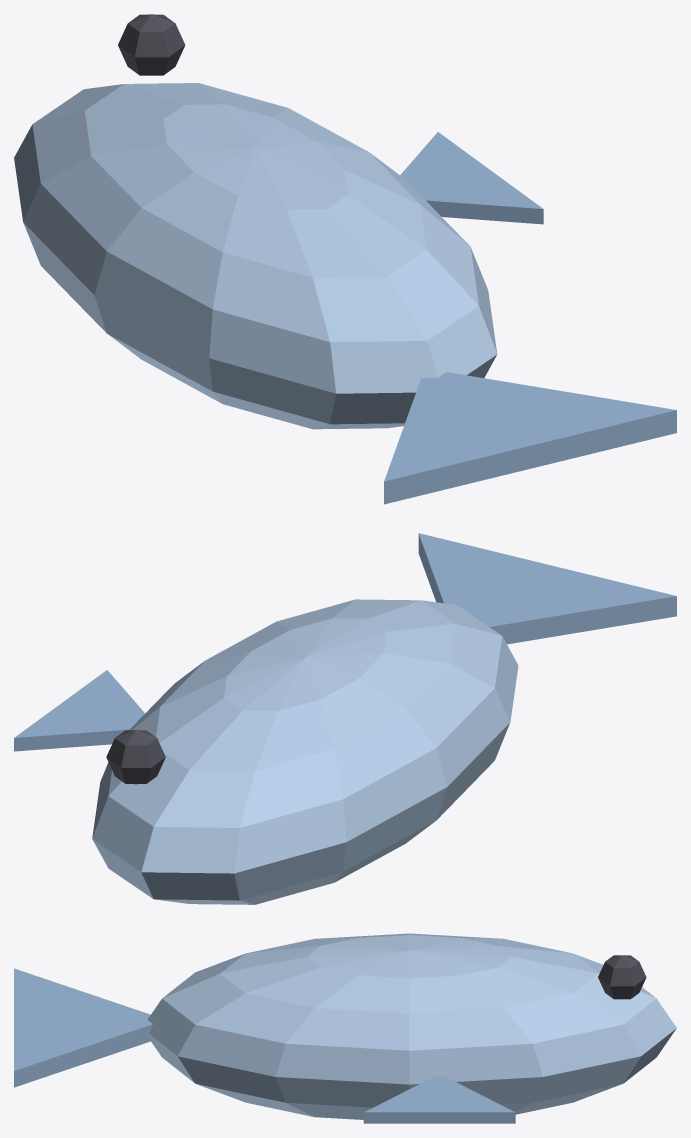
The model's file is fish_held.gltf.
The picture shows the model from 3 angles, top to bottom: view 1: azimuth 30°, elevation 25°; view 2: azimuth 150°, elevation 25°; view 3: azimuth 270°, elevation 25°; orthographic projection. The views are drawn at different scales.
Visible parts, largest first — view 1: pets_fish_held; view 2: pets_fish_held; view 3: pets_fish_held.
Part boxes in pixels (box(x1,y1,x2,y2)): pets_fish_held: box(14, 14, 676, 504); pets_fish_held: box(14, 533, 676, 904); pets_fish_held: box(14, 933, 676, 1123).
Bounding box in the file's own units: 0.114 × 0.06 × 0.218.
